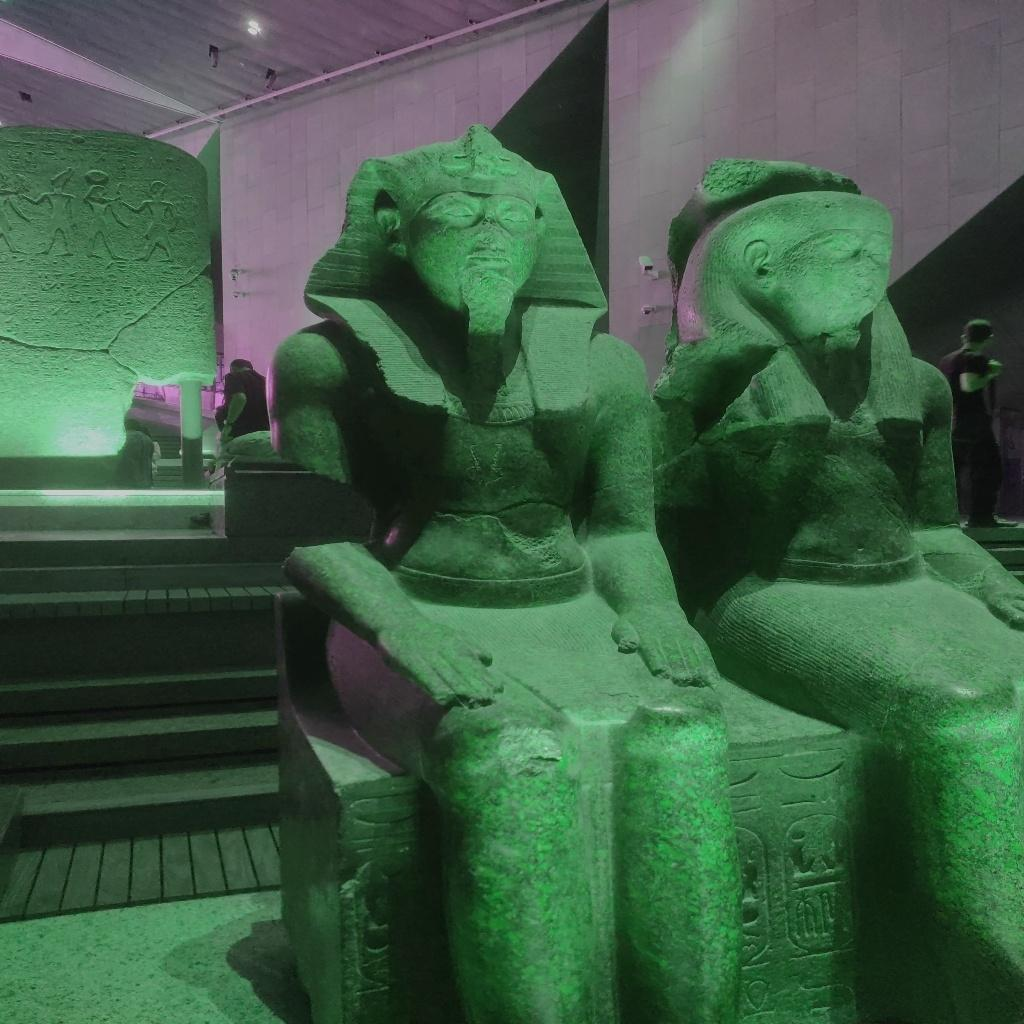Seated Statue of Ramesses II and God Ptah: (268, 164, 1024, 1022)
